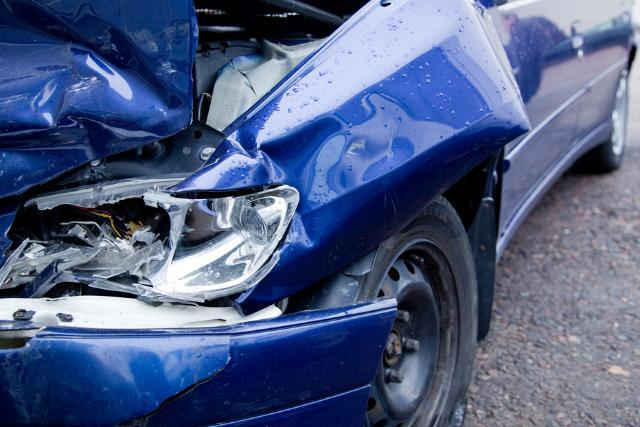Bonnet: (0, 0, 221, 192)
Bumper: (0, 289, 409, 427)
Fender: (266, 0, 562, 271)
Light: (9, 190, 287, 299)
